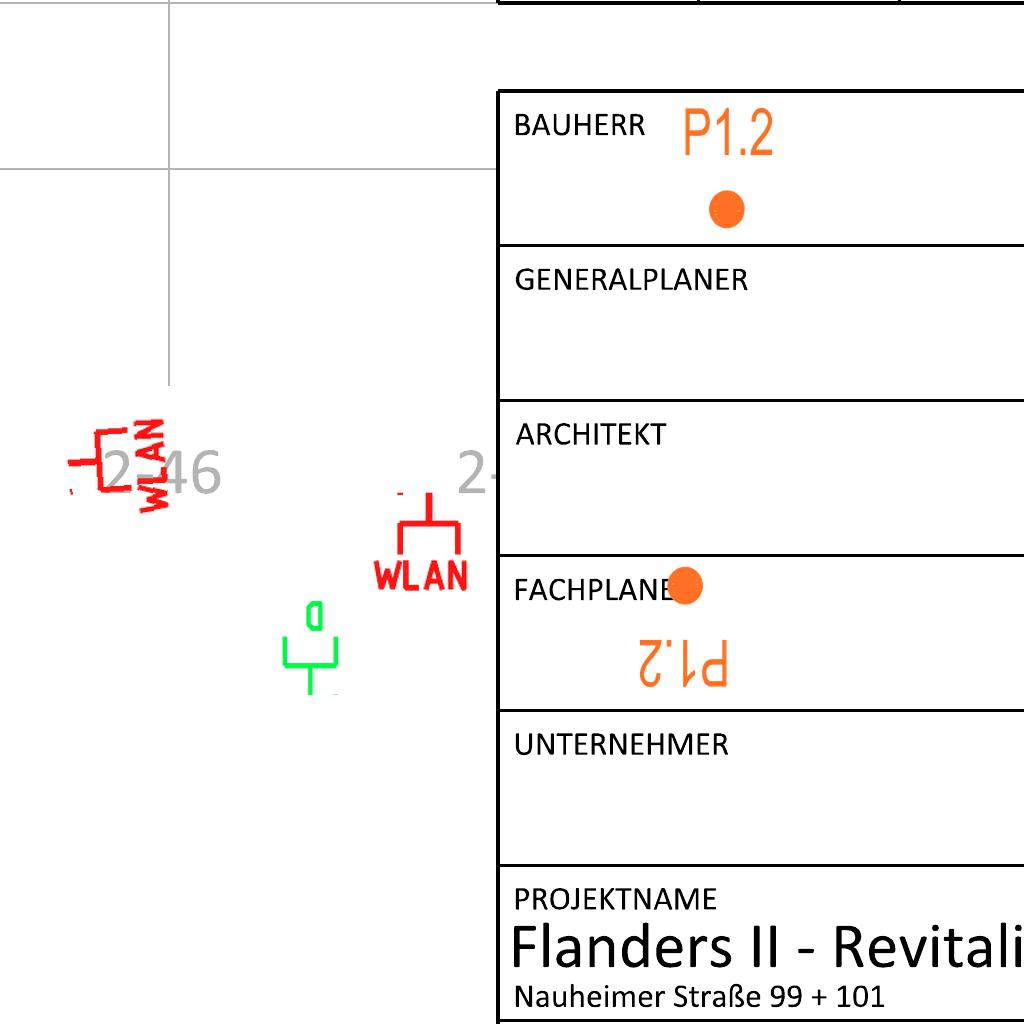Datenanschluss_einfach: (274, 598, 343, 698)
Downlight_LED_Einbauleuchten_Flur: (682, 104, 775, 232), (637, 563, 730, 691)
WLAN: (60, 413, 173, 525), (368, 488, 472, 593)
